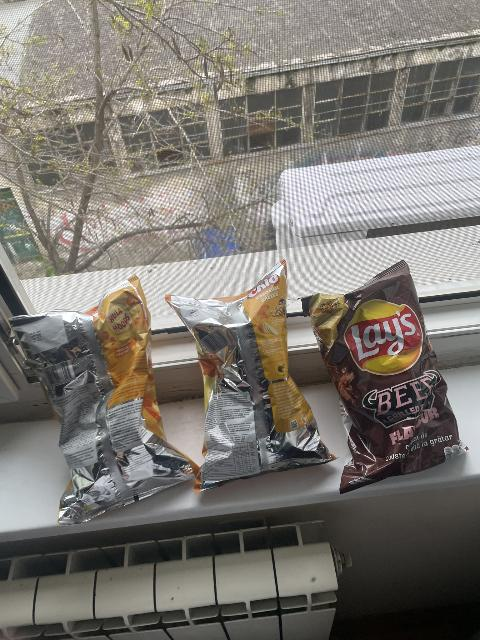Chio Cascaval 125g: (167, 260, 339, 493)
Chio Hula Hoops Cheese 70g: (5, 273, 199, 525)
Lays Beef Grilled Ribs 125g: (295, 262, 468, 494)
